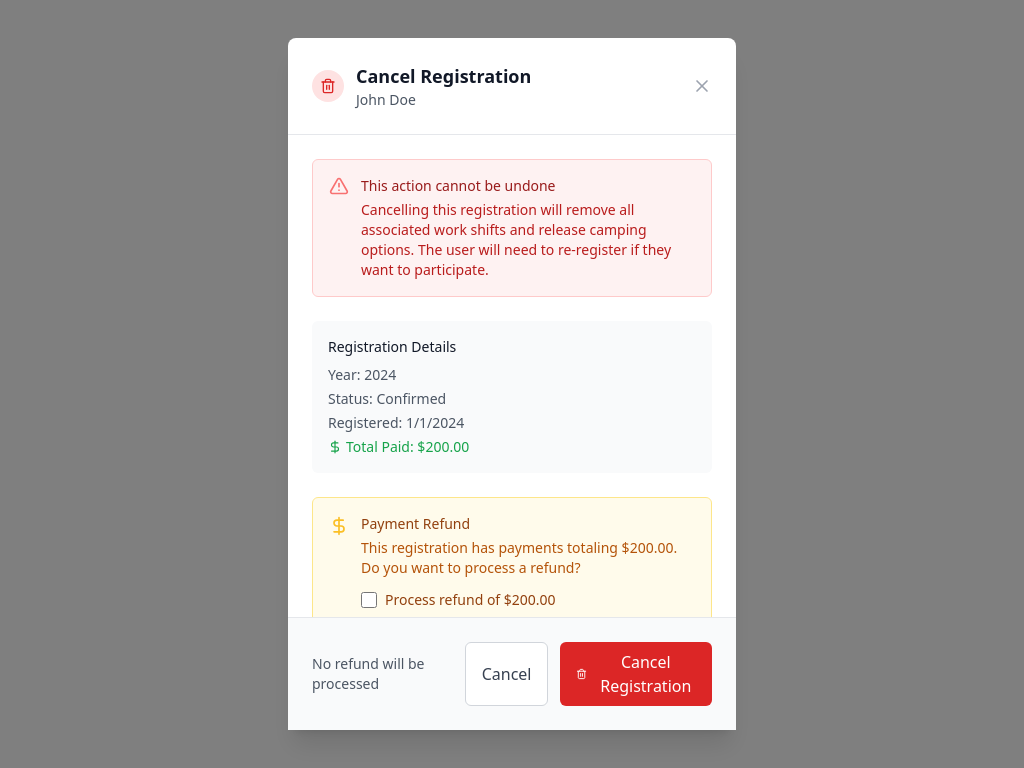
Test case: RegistrationCancelForm › Form Validation › should require a reason when submitting
Click the button "Cancel Registration": (636, 674) [560, 642, 712, 706]
(page scrolled)
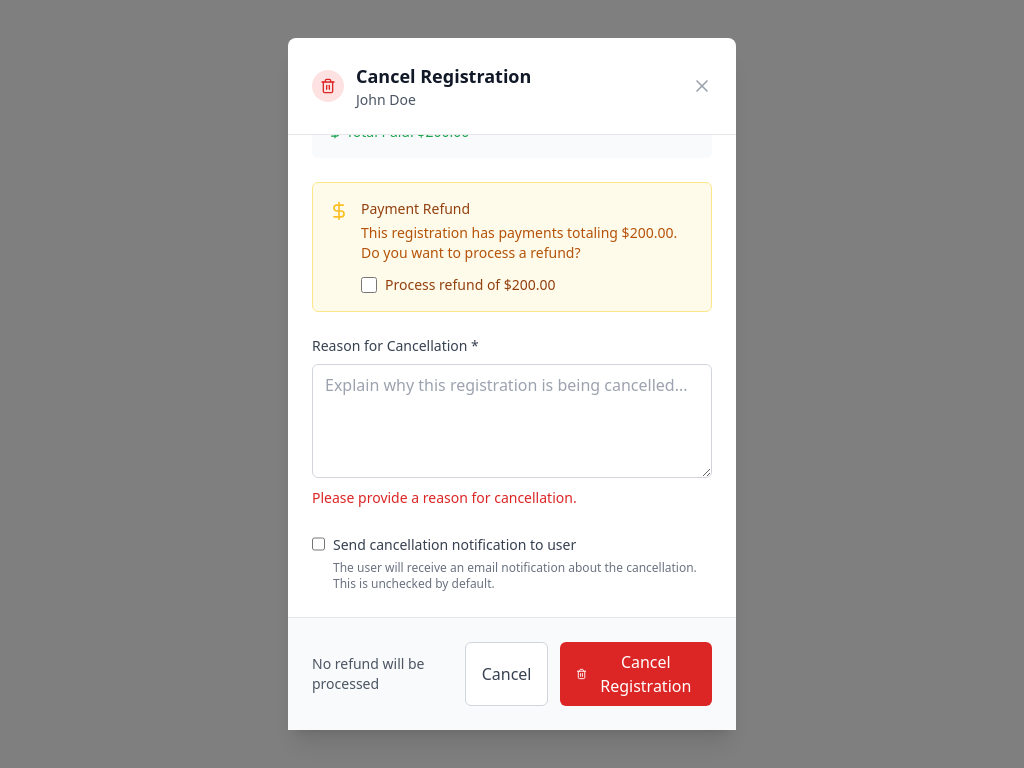
Now the text "Please provide a reason for cancellation." is shown, box [312, 488, 577, 507]
